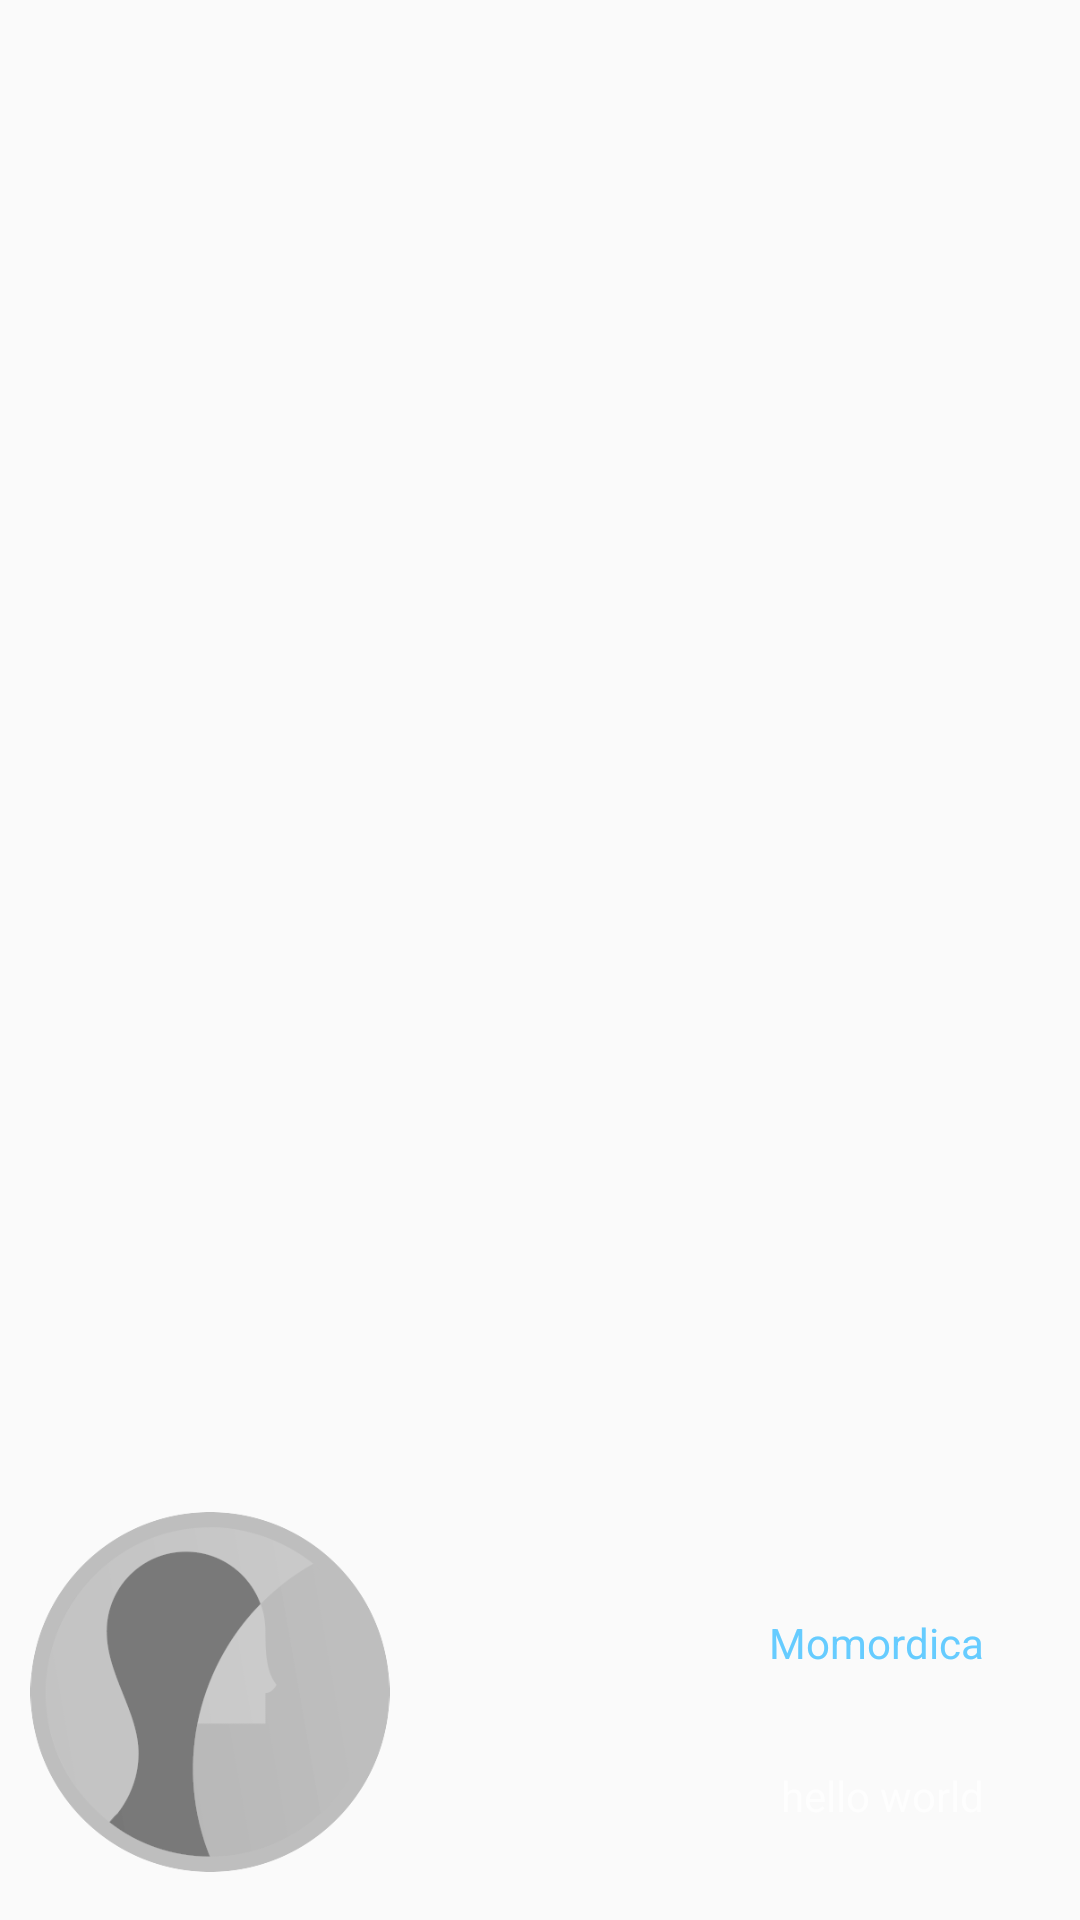

Icons on this 1080 x 1920 Android screen, each with its box as (x1, y1, x2, y2):
ladies: (30, 1512, 390, 1872)
